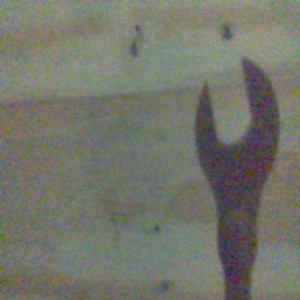spanner: (194, 55, 281, 300)
